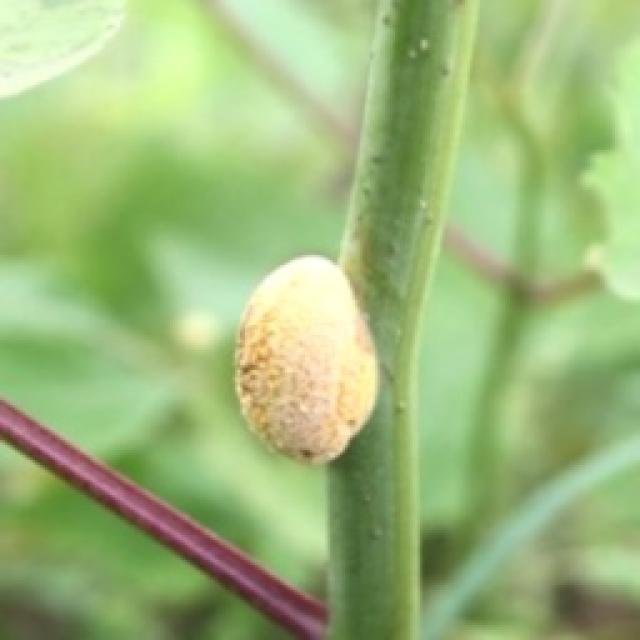Elderberry_rust: (224, 269, 414, 461)
